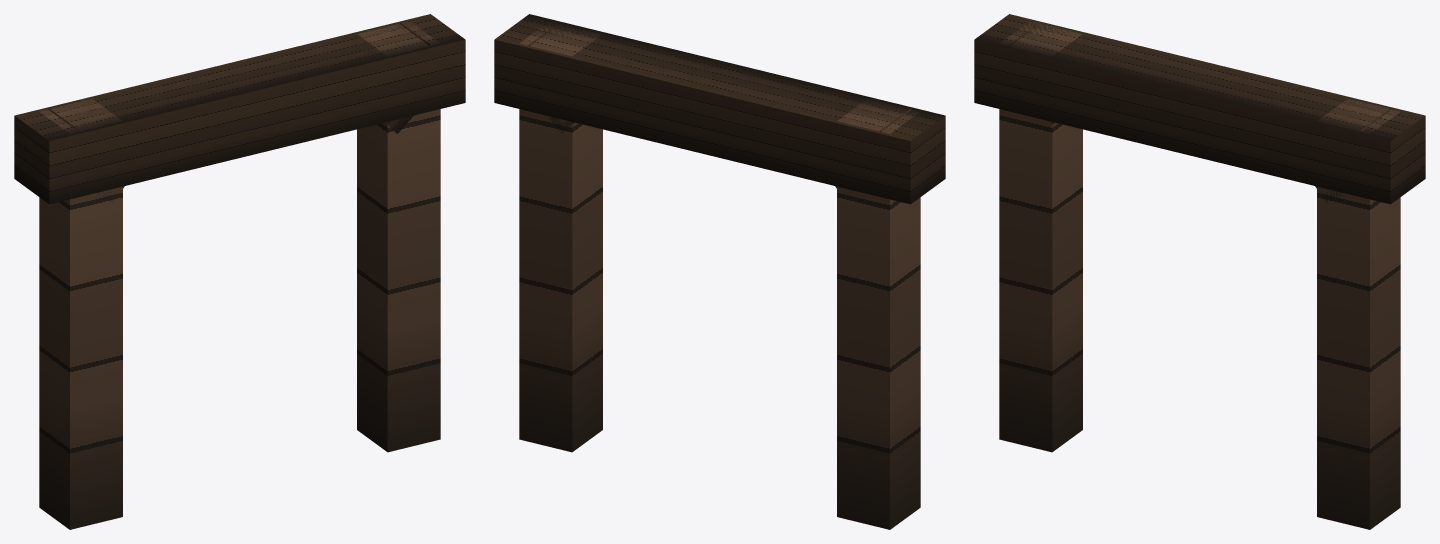
Rendered from post_beam.gltf.
3 renders of one model, left to right at view 1: azimuth 30°, elevation 25°; view 2: azimuth 150°, elevation 25°; view 3: azimuth 330°, elevation 25°, orthographic.
Visible parts, largest first — view 1: post_beam; view 2: post_beam; view 3: post_beam.
Part boxes in pixels (x1,y1,x2,y2): post_beam: (14,14,465,529); post_beam: (494,14,945,529); post_beam: (974,14,1425,529).
Bounding box in the file's own units: 1.1 × 1 × 0.16.
Materials: 1 (1 with a texture image).
